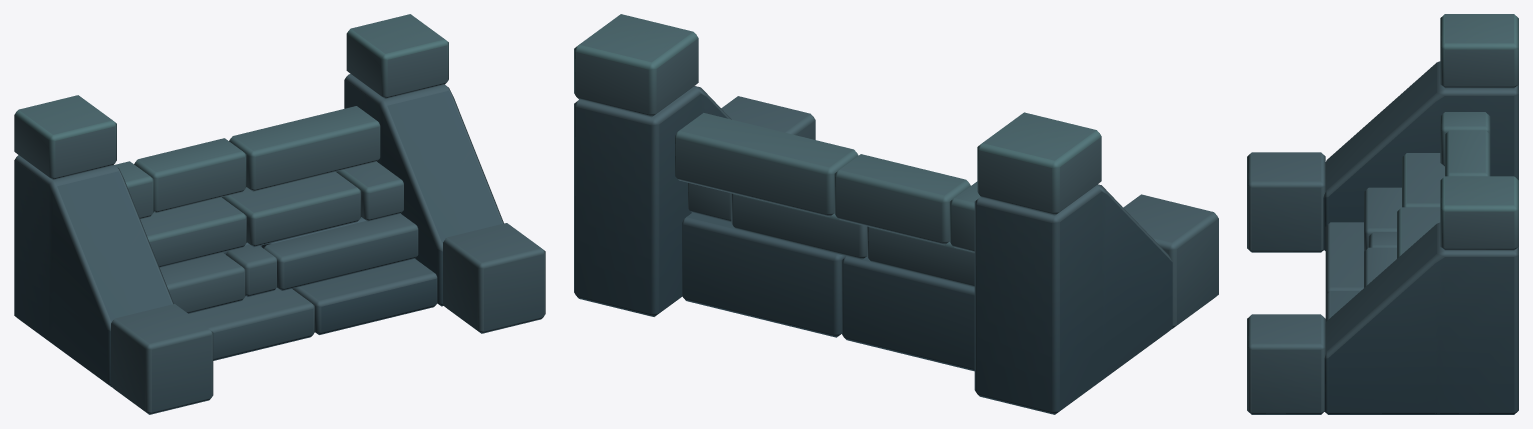
The model's file is stairs_set_01.fbx.
The picture shows the model from 3 angles, left to right: view 1: azimuth 30°, elevation 25°; view 2: azimuth 150°, elevation 25°; view 3: azimuth 270°, elevation 25°; orthographic projection. The views are drawn at different scales.
Parts seen in each view (by area): view 1: stairs_set_01; view 2: stairs_set_01; view 3: stairs_set_01.
Part boxes in pixels (x1,y1,x2,y2): stairs_set_01: (14,14,545,414); stairs_set_01: (574,14,1218,414); stairs_set_01: (1247,14,1518,414).
Size of the model in its own units: 303 by 152 by 178.
